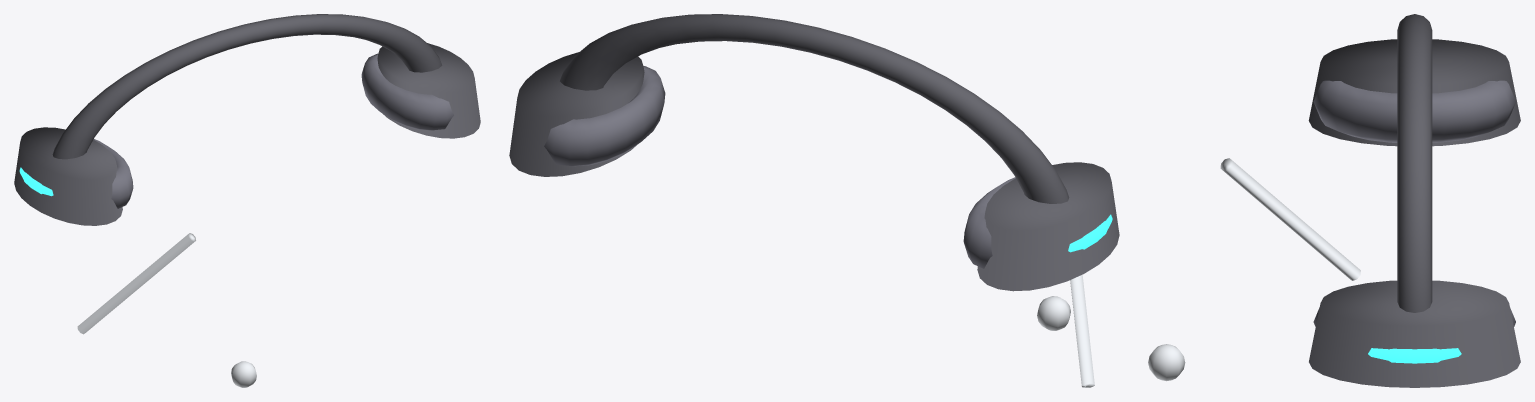
Rendered from headphones_zen.glb.
3 renders of one model, left to right at view 1: azimuth 30°, elevation 25°; view 2: azimuth 150°, elevation 25°; view 3: azimuth 270°, elevation 25°, orthographic. The views are drawn at different scales.
Size of the model in its own units: 1.12 by 0.67 by 0.601.
